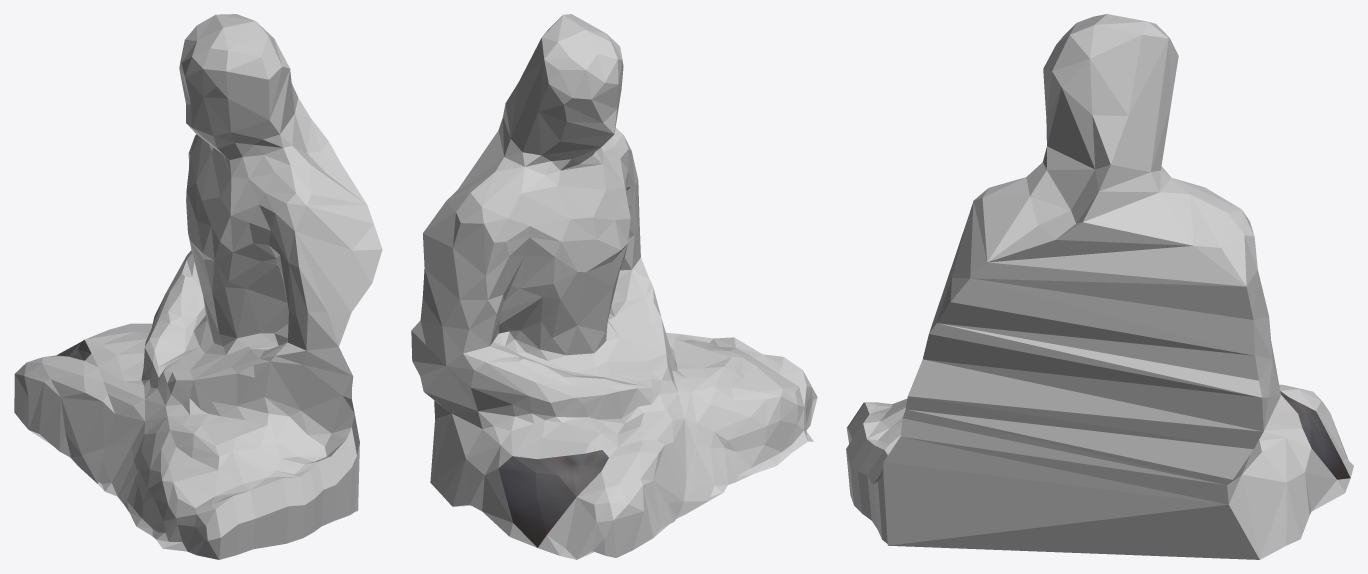
Rendered from Patung 8.fbx.
3 renders of one model, left to right at view 1: azimuth 30°, elevation 25°; view 2: azimuth 150°, elevation 25°; view 3: azimuth 270°, elevation 25°, orthographic. The views are drawn at different scales.
Parts seen in each view (by area): view 1: Patung 7; view 2: Patung 7; view 3: Patung 7.
Part boxes in pixels (x1,y1,x2,y2): Patung 7: [14, 14, 382, 559]; Patung 7: [411, 14, 817, 559]; Patung 7: [846, 14, 1353, 559].
Size of the model in its own units: 61.98 by 104 by 92.68.
